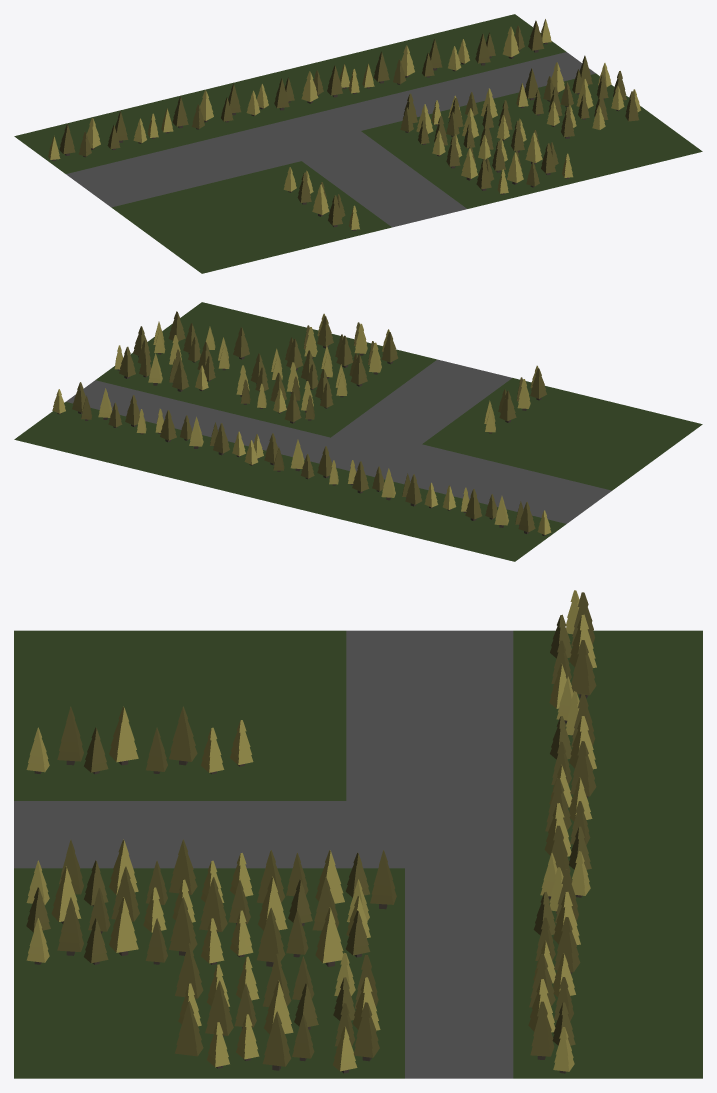
File: InGame Map Optimized.fbx
The picture shows the model from 3 angles, top to bottom: view 1: azimuth 30°, elevation 25°; view 2: azimuth 150°, elevation 25°; view 3: azimuth 270°, elevation 25°; orthographic projection. The views are drawn at different scales.
Parts seen in each view (by area): view 1: Plane, Tree's; view 2: Plane, Tree's; view 3: Plane, Tree's.
Part boxes in pixels (x1,y1,x2,y2): Plane: (14, 14, 702, 273); Tree's: (48, 19, 640, 230); Plane: (14, 302, 702, 561); Tree's: (52, 311, 551, 535); Plane: (14, 630, 702, 1078); Tree's: (26, 590, 596, 1073).
Bounding box in the file's own units: 20006 × 1267 × 13000.
